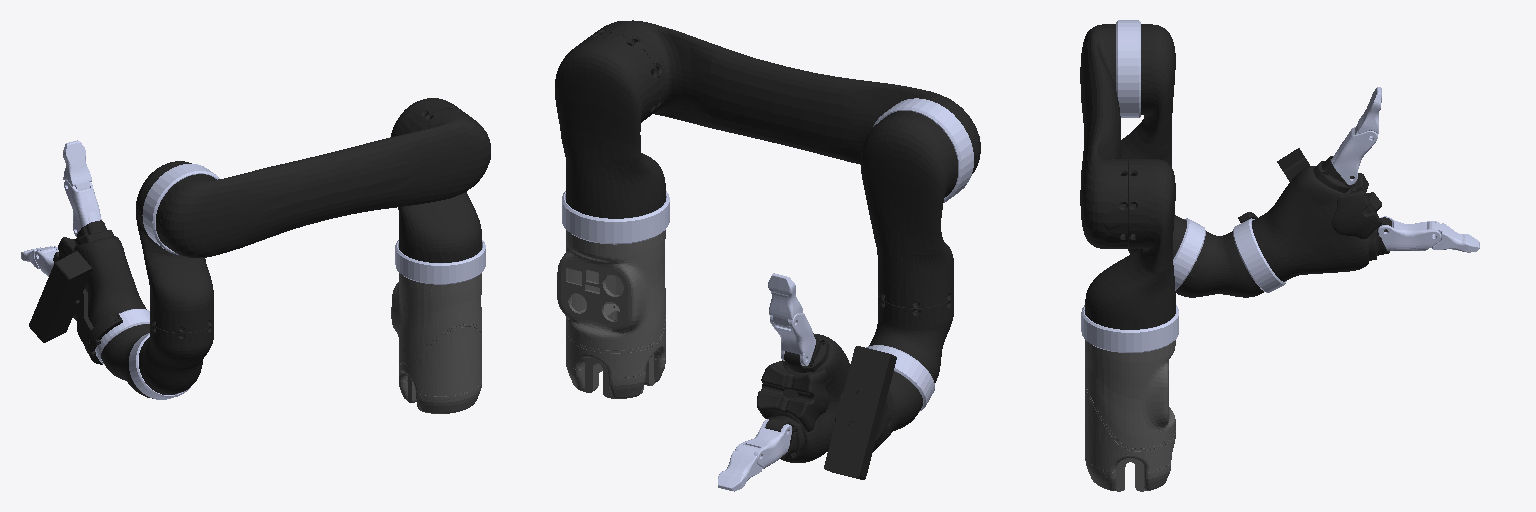
robot.urdf — ADA:
<robot
  name="ADA">
  <link
    name="base_link">
    <inertial>
      <origin
        xyz="0 -0.0018698 0.00076788"
        rpy="0 0 0" />
      <mass
        value="0.64" />
      <inertia
        ixx="0.00059853"
        ixy="0"
        ixz="0"
        iyy="0.00058911"
        iyz="0"
        izz="0.00031086" />
    </inertial>
    <visual>
      <origin
        xyz="0 0 0"
        rpy="0 0 0" />
      <geometry>
        <mesh
          filename="package://ada_description/meshes/base_link.STL" />
      </geometry>
      <material
        name="">
        <color
          rgba="0.4 0.4 0.4 1" />
      </material>
    </visual>
    <collision>
      <origin
        xyz="0 0 0"
        rpy="0 0 0" />
      <geometry>
        <mesh
          filename="package://ada_description/meshes/base_link.STL" />
      </geometry>
    </collision>
  </link>
  <link
    name="Shoulder_Link">
    <inertial>
      <origin
        xyz="0 0.015563 0.072664"
        rpy="0 0 0" />
      <mass
        value="0.15215" />
      <inertia
        ixx="0.00035346"
        ixy="0"
        ixz="0"
        iyy="0.00038125"
        iyz="0"
        izz="0.00016029" />
    </inertial>
    <visual>
      <origin
        xyz="0 0 0"
        rpy="0 0 0" />
      <geometry>
        <mesh
          filename="package://ada_description/meshes/Shoulder_Link.STL" />
      </geometry>
      <material
        name="">
        <color
          rgba="0.2 0.2 0.2 1" />
      </material>
    </visual>
    <collision>
      <origin
        xyz="0 0 0"
        rpy="0 0 0" />
      <geometry>
        <mesh
          filename="package://ada_description/meshes/Shoulder_Link.STL" />
      </geometry>
    </collision>
  </link>
  <joint
    name="j1"
    type="continuous">
    <origin
      xyz="0 0 0.09875"
      rpy="0 0 0" />
    <parent
      link="base_link" />
    <child
      link="Shoulder_Link" />
    <axis
      xyz="0 0 -1" />
    <!--
    <limit
      lower="-3.14"
      upper="3.14"
      effort="0"
      velocity="0.94" />
    -->
    <limit
      effort="18"
      velocity="0.94" />
  </joint>
  <transmission name="Shoulder_Joint_Transmission">
    <type>transmission_interface/SimpleTransmission</type>
    <joint name="j1"/>
    <actuator name="Shoulder_Motor">
      <hardwareInterface>EffortJointInterface</hardwareInterface>
      <mechanicalReduction>136</mechanicalReduction>
    </actuator>
  </transmission>
  <link
    name="Arm_Link">
    <inertial>
      <origin
        xyz="-0.14503 0 -0.02688"
        rpy="0 0 0" />
      <mass
        value="0.2936" />
      <inertia
        ixx="0.00020244"
        ixy="0"
        ixz="0"
        iyy="0.0033623"
        iyz="0"
        izz="0.0034884" />
    </inertial>
    <visual>
      <origin
        xyz="0 0 0"
        rpy="0 0 0" />
      <geometry>
        <mesh
          filename="package://ada_description/meshes/Arm_Link.STL" />
      </geometry>
      <material
        name="">
        <color
          rgba="0.2 0.2 0.2 1" />
      </material>
    </visual>
    <collision>
      <origin
        xyz="0 0 0"
        rpy="0 0 0" />
      <geometry>
        <mesh
          filename="package://ada_description/meshes/Arm_Link.STL" />
      </geometry>
    </collision>
  </link>
  <joint
    name="j2"
    type="revolute">
    <origin
      xyz="0 -0.00175 0.11875"
      rpy="1.5708 0 3.1416" />
    <parent
      link="Shoulder_Link" />
    <child
      link="Arm_Link" />
    <axis
      xyz="0 0 1" />
    <!--
    <limit
      lower="-3.92"
      upper="0.78"
      effort="0"
      velocity="0.94" />
    -->
    <limit
      lower="0.785"
      upper="5.4981853"
      effort="18"
      velocity="0.94" />
  </joint>
  <transmission name="Arm_Joint_Transmission">
    <type>transmission_interface/SimpleTransmission</type>
    <joint name="j2"/>
    <actuator name="Arm_Motor">
      <hardwareInterface>EffortJointInterface</hardwareInterface>
      <mechanicalReduction>136</mechanicalReduction>
    </actuator>
  </transmission>
  <link
    name="Forearm_Link">
    <inertial>
      <origin
        xyz="0 -0.04006 -0.021871"
        rpy="0 0 0" />
      <mass
        value="0.12259" />
      <inertia
        ixx="0.00024901"
        ixy="0"
        ixz="0"
        iyy="0"
        iyz="0"
        izz="0.00028426" />
    </inertial>
    <visual>
      <origin
        xyz="0 0 0"
        rpy="0 0 0" />
      <geometry>
        <mesh
          filename="package://ada_description/meshes/Forearm_Link.STL" />
      </geometry>
      <material
        name="">
        <color
          rgba="0.2 0.2 0.2 1" />
      </material>
    </visual>
    <collision>
      <origin
        xyz="0 0 0"
        rpy="0 0 0" />
      <geometry>
        <mesh
          filename="package://ada_description/meshes/Forearm_Link.STL" />
      </geometry>
    </collision>
  </link>
  <joint
    name="j3"
    type="revolute">
    <origin
      xyz="-0.29 0 0"
      rpy="3.1416 0 -3.1416" />
    <parent
      link="Arm_Link" />
    <child
      link="Forearm_Link" />
    <axis
      xyz="0 0 1" />
    <!--  
    <limit
      lower="-0.87"
      upper="4.01"
      effort="0"
      velocity="0.94" />
    -->
    <limit
      lower="0.65"
      upper="5.6331853"
      effort="18"
      velocity="0.94" />
  </joint>
  <transmission name="Forearm_Joint_Transmission">
    <type>transmission_interface/SimpleTransmission</type>
    <joint name="j3"/>
    <actuator name="Forearm_Motor">
      <hardwareInterface>EffortJointInterface</hardwareInterface>
      <mechanicalReduction>136</mechanicalReduction>
    </actuator>
  </transmission>
  <link
    name="Wrist_1_Link">
    <inertial>
      <origin
        xyz="0 -0.0082688 -0.038029"
        rpy="0 0 0" />
      <mass
        value="0.03694" />
      <inertia
        ixx="0"
        ixy="0"
        ixz="0"
        iyy="0"
        iyz="0"
        izz="0" />
    </inertial>
    <visual>
      <origin
        xyz="0 0 0"
        rpy="0 0 0" />
      <geometry>
        <mesh
          filename="package://ada_description/meshes/Wrist_1_Link.STL" />
      </geometry>
      <material
        name="">
        <color
          rgba="0.2 0.2 0.2 1" />
      </material>
    </visual>
    <collision>
      <origin
        xyz="0 0 0"
        rpy="0 0 0" />
      <geometry>
        <mesh
          filename="package://ada_description/meshes/Wrist_1_Link.STL" />
      </geometry>
    </collision>
  </link>
  <joint
    name="j4"
    type="continuous">
    <origin
      xyz="0 -0.12325 -0.00875"
      rpy="1.5708 0 -3.1416" />
    <parent
      link="Forearm_Link" />
    <child
      link="Wrist_1_Link" />
    <axis
      xyz="0 0 1" />
    <!--
    <limit
      lower="-3.14"
      upper="3.14"
      effort="8"
      velocity="2.0" />
    -->
    <limit
      effort="0"
      velocity="2.0" />
  </joint>
  <transmission name="Wrist_1_Joint_Transmission">
    <type>transmission_interface/SimpleTransmission</type>
    <joint name="j4"/>
    <actuator name="Wrist_1_Motor">
      <hardwareInterface>EffortJointInterface</hardwareInterface>
      <mechanicalReduction>110</mechanicalReduction>
    </actuator>
  </transmission>
  <link
    name="Wrist_2_Link">
    <inertial>
      <origin
        xyz="0 0.0082685 -0.038029"
        rpy="0 0 0" />
      <mass
        value="0.036939" />
      <inertia
        ixx="0"
        ixy="0"
        ixz="0"
        iyy="0"
        iyz="0"
        izz="0" />
    </inertial>
    <visual>
      <origin
        xyz="0 0 0"
        rpy="0 0 0" />
      <geometry>
        <mesh
          filename="package://ada_description/meshes/Wrist_2_Link.STL" />
      </geometry>
      <material
        name="">
        <color
          rgba="0.2 0.2 0.2 1" />
      </material>
    </visual>
    <collision>
      <origin
        xyz="0 0 0"
        rpy="0 0 0" />
      <geometry>
        <mesh
          filename="package://ada_description/meshes/Wrist_2_Link.STL" />
      </geometry>
    </collision>
  </link>
  <joint
    name="j5"
    type="continuous">
    <origin
      xyz="0 -0.037029 -0.064136"
      rpy="1.0472 0 3.1416" />
    <parent
      link="Wrist_1_Link" />
    <child
      link="Wrist_2_Link" />
    <axis
      xyz="0 0 1" />
    <!--
    <limit
      lower="-3.14"
      upper="3.14"
      effort="0"
      velocity="2.0" />
    -->
    <limit
      effort="8"
      velocity="2.0" />
  </joint>
  <transmission name="Wrist_2_Joint_Transmission">
    <type>transmission_interface/SimpleTransmission</type>
    <joint name="j5"/>
    <actuator name="Wrist_2_Motor">
      <hardwareInterface>EffortJointInterface</hardwareInterface>
      <mechanicalReduction>110</mechanicalReduction>
    </actuator>
  </transmission>
  <link
    name="Hand_Link">
    <inertial>
      <origin
        xyz="0.0015134 0 -0.074456"
        rpy="0 0 0" />
      <mass
        value="0.4" />
      <inertia
        ixx="0.00020901"
        ixy="0"
        ixz="0"
        iyy="0.00015498"
        iyz="0"
        izz="0.00012507" />
    </inertial>
    <visual>
      <origin
        xyz="0 0 0"
        rpy="0 0 0" />
      <geometry>
        <mesh
          filename="package://ada_description/meshes/Hand_Link_camera.STL" />
      </geometry>
      <material
        name="">
        <color
          rgba="0.2 0.2 0.2 1" />
      </material>
    </visual>
    <collision>
      <origin
        xyz="0 0 0"
        rpy="0 0 0" />
      <geometry>
        <mesh
          filename="package://ada_description/meshes/Hand_Link_camera.STL" />
      </geometry>
    </collision>
  </link>
  <joint
    name="j6"
    type="continuous">
    <origin
      xyz="0 0.037029 -0.064136"
      rpy="1.0472 0 0" />
    <parent
      link="Wrist_2_Link" />
    <child
      link="Hand_Link" />
    <axis
      xyz="0 0 1" />
    <!--
    <limit
      lower="-3.14"
      upper="3.14"
      effort="0"
      velocity="2.0" />
    -->
    <limit
      effort="8"
      velocity="2.0" />
  </joint>
  <transmission name="Hand_Joint_Transmission">
    <type>transmission_interface/SimpleTransmission</type>
    <joint name="j6"/>
    <actuator name="Hand_Motor">
      <hardwareInterface>EffortJointInterface</hardwareInterface>
      <mechanicalReduction>110</mechanicalReduction>
    </actuator>
  </transmission>
  <link
    name="Finger_1_Proximal_Link">
    <inertial>
      <origin
        xyz="-0.00894704183784709 -0.0181466381953971 0"
        rpy="0 0 0" />
      <mass
        value="0.0106365590225629" />
      <inertia
        ixx="0"
        ixy="0"
        ixz="0"
        iyy="0"
        iyz="0"
        izz="0" />
    </inertial>
    <visual>
      <origin
        xyz="0 0 0"
        rpy="0 0 0" />
      <geometry>
        <mesh
          filename="package://ada_description/meshes/Finger_1_Proximal_Link.STL" />
      </geometry>
      <material
        name="">
        <color
          rgba="0.792156862745098 0.819607843137255 0.933333333333333 1" />
      </material>
    </visual>
    <collision>
      <origin
        xyz="0 0 0"
        rpy="0 0 0" />
      <geometry>
        <mesh
          filename="package://ada_description/meshes/Finger_1_Proximal_Link.STL" />
      </geometry>
    </collision>
  </link>
  <joint
    name="f1"
    type="revolute">
    <origin
      xyz="0.0024957 -0.030948 -0.11482"
      rpy="1.5708 0.56392 1.5708" />
    <parent
      link="Hand_Link" />
    <child
      link="Finger_1_Proximal_Link" />
    <axis
      xyz="0 0 1" />
    <limit
      lower="0"
      upper="1.20"
      effort="1.2"
      velocity="0.785398163" />
  </joint>
  <transmission name="Finger_1_Proximal_Joint_Transmission">
    <type>transmission_interface/SimpleTransmission</type>
    <joint name="f1"/>
    <actuator name="Finger_1_Proximal_Motor">
      <hardwareInterface>EffortJointInterface</hardwareInterface>
      <mechanicalReduction>1</mechanicalReduction>
    </actuator>
  </transmission>
  <link
    name="Finger_1_Distal_Link">
    <inertial>
      <origin
        xyz="-0.0047690584177113 -0.0133399601477665 0"
        rpy="0 0 0" />
      <mass
        value="0.0121939815401302" />
      <inertia
        ixx="0"
        ixy="0"
        ixz="0"
        iyy="0"
        iyz="0"
        izz="0" />
    </inertial>
    <visual>
      <origin
        xyz="0 0 0"
        rpy="0 0 0" />
      <geometry>
        <mesh
          filename="package://ada_description/meshes/Finger_1_Distal_Link.STL" />
      </geometry>
      <material
        name="">
        <color
          rgba="0.792156862745098 0.819607843137255 0.933333333333333 1" />
      </material>
    </visual>
    <collision>
      <origin
        xyz="0 0 0"
        rpy="0 0 0" />
      <geometry>
        <mesh
          filename="package://ada_description/meshes/Finger_1_Distal_Link.STL" />
      </geometry>
    </collision>
  </link>
  <joint
    name="Finger_1_Distal_Joint"
    type="revolute">
    <origin
      xyz="-0.003 -0.044 0"
      rpy="0 0 -0.19199" />
    <parent
      link="Finger_1_Proximal_Link" />
    <child
      link="Finger_1_Distal_Link" />
    <axis
      xyz="0 0 1" />
    <limit
      lower="0"
      upper="1.05"
      effort="1.2"
      velocity="0.785398163" />
    <mimic 
      joint="Finger_1_Proximal_Joint"
      multiplier="0.5" />
  </joint>
  <transmission name="Finger_1_Distal_Joint_Transmission">
    <type>transmission_interface/SimpleTransmission</type>
    <joint name="Finger_1_Distal_Joint"/>
    <actuator name="Finger_1_Distal_Motor">
      <hardwareInterface>EffortJointInterface</hardwareInterface>
      <mechanicalReduction>1</mechanicalReduction>
    </actuator>
  </transmission>
  <link
    name="Finger_2_Proximal_Link">
    <inertial>
      <origin
        xyz="-0.00894697932265109 -0.018146678045967 0"
        rpy="0 0 0" />
      <mass
        value="0.0106364391584646" />
      <inertia
        ixx="0"
        ixy="0"
        ixz="0"
        iyy="0"
        iyz="0"
        izz="0" />
    </inertial>
    <visual>
      <origin
        xyz="0 0 0"
        rpy="0 0 0" />
      <geometry>
        <mesh
          filename="package://ada_description/meshes/Finger_2_Proximal_Link.STL" />
      </geometry>
      <material
        name="">
        <color
          rgba="0.792156862745098 0.819607843137255 0.933333333333333 1" />
      </material>
    </visual>
    <collision>
      <origin
        xyz="0 0 0"
        rpy="0 0 0" />
      <geometry>
        <mesh
          filename="package://ada_description/meshes/Finger_2_Proximal_Link.STL" />
      </geometry>
    </collision>
  </link>
  <joint
    name="f2"
    type="revolute">
    <origin
      xyz="0.0024957 0.030948 -0.11482"
      rpy="1.5708 0.56392 -1.5708" />
    <parent
      link="Hand_Link" />
    <child
      link="Finger_2_Proximal_Link" />
    <axis
      xyz="0 0 1" />
    <limit
      lower="0"
      upper="1.20"
      effort="1.2"
      velocity="0.785398163" />
  </joint>
  <transmission name="Finger_2_Proximal_Joint_Transmission">
    <type>transmission_interface/SimpleTransmission</type>
    <joint name="f2"/>
    <actuator name="Finger_2_Proximal_Motor">
      <hardwareInterface>EffortJointInterface</hardwareInterface>
      <mechanicalReduction>1</mechanicalReduction>
    </actuator>
  </transmission>
  <link
    name="Finger_2_Distal_Link">
    <inertial>
      <origin
        xyz="-0.00476909654850879 -0.0133398607161451 0"
        rpy="0 0 0" />
      <mass
        value="0.0121939010456702" />
      <inertia
        ixx="0"
        ixy="0"
        ixz="0"
        iyy="0"
        iyz="0"
        izz="0" />
    </inertial>
    <visual>
      <origin
        xyz="0 0 0"
        rpy="0 0 0" />
      <geometry>
        <mesh
          filename="package://ada_description/meshes/Finger_2_Distal_Link.STL" />
      </geometry>
      <material
        name="">
        <color
          rgba="0.792156862745098 0.819607843137255 0.933333333333333 1" />
      </material>
    </visual>
    <collision>
      <origin
        xyz="0 0 0"
        rpy="0 0 0" />
      <geometry>
        <mesh
          filename="package://ada_description/meshes/Finger_2_Distal_Link.STL" />
      </geometry>
    </collision>
  </link>
  <joint
    name="Finger_2_Distal_Joint"
    type="revolute">
    <origin
      xyz="-0.003 -0.044 0"
      rpy="0 0 -0.19199" />
    <parent
      link="Finger_2_Proximal_Link" />
    <child
      link="Finger_2_Distal_Link" />
    <axis
      xyz="0 0 1" />
    <limit
      lower="0"
      upper="1.05"
      effort="1.2"
      velocity="0.785398163" />
    <mimic 
      joint="Finger_1_Proximal_Joint"
      multiplier="0.5" />
  </joint>
  <transmission name="Finger_2_Distal_Joint_Transmission">
    <type>transmission_interface/SimpleTransmission</type>
    <joint name="Finger_2_Distal_Joint"/>
    <actuator name="Finger_2_Distal_Motor">
      <hardwareInterface>EffortJointInterface</hardwareInterface>
      <mechanicalReduction>1</mechanicalReduction>
    </actuator>
  </transmission>
  <link
    name="Hand_Ring_Link">
    <inertial>
      <origin
        xyz="0 0 0"
        rpy="0 0 0" />
      <mass
        value="0.4" />
      <inertia
        ixx="0"
        ixy="0"
        ixz="0"
        iyy="0"
        iyz="0"
        izz="0" />
    </inertial>
    <visual>
      <origin
        xyz="0 0 0"
        rpy="0 0 0" />
      <geometry>
        <mesh
          filename="package://ada_description/meshes/Hand_Ring_Link.STL" />
      </geometry>
      <material
        name="">
        <color
          rgba="0.79216 0.81961 0.93333 1" />
      </material>
    </visual>
    <collision>
      <origin
        xyz="0 0 0"
        rpy="0 0 0" />
      <geometry>
        <mesh
          filename="package://ada_description/meshes/Hand_Ring_Link.STL" />
      </geometry>
    </collision>
  </link>
  <joint
    name="Hand_Ring_Joint"
    type="fixed">
    <origin
      xyz="0 0 0"
      rpy="0 0 0" />
    <parent
      link="Hand_Link" />
    <child
      link="Hand_Ring_Link" />
    <axis
      xyz="0 0 0" />
  </joint>
  <link
    name="Wrist_2_Ring_Link">
    <inertial>
      <origin
        xyz="0 0 0"
        rpy="0 0 0" />
      <mass
        value="0.4" />
      <inertia
        ixx="0"
        ixy="0"
        ixz="0"
        iyy="0"
        iyz="0"
        izz="0" />
    </inertial>
    <visual>
      <origin
        xyz="0 0 0"
        rpy="0 0 0" />
      <geometry>
        <mesh
          filename="package://ada_description/meshes/Wrist_2_Ring_Link.STL" />
      </geometry>
      <material
        name="">
        <color
          rgba="0.79216 0.81961 0.93333 1" />
      </material>
    </visual>
    <collision>
      <origin
        xyz="0 0 0"
        rpy="0 0 0" />
      <geometry>
        <mesh
          filename="package://ada_description/meshes/Wrist_2_Ring_Link.STL" />
      </geometry>
    </collision>
  </link>
  <joint
    name="Wrist_2_Ring_Joint"
    type="fixed">
    <origin
      xyz="0 0 0"
      rpy="0 0 0" />
    <parent
      link="Wrist_2_Link" />
    <child
      link="Wrist_2_Ring_Link" />
    <axis
      xyz="0 0 0" />
  </joint>
  <link
    name="Wrist_1_Ring_Link">
    <inertial>
      <origin
        xyz="0 0 0"
        rpy="0 0 0" />
      <mass
        value="0.4" />
      <inertia
        ixx="0"
        ixy="0"
        ixz="0"
        iyy="0"
        iyz="0"
        izz="0" />
    </inertial>
    <visual>
      <origin
        xyz="0 0 0"
        rpy="0 0 0" />
      <geometry>
        <mesh
          filename="package://ada_description/meshes/Wrist_1_Ring_Link.STL" />
      </geometry>
      <material
        name="">
        <color
          rgba="0.79216 0.81961 0.93333 1" />
      </material>
    </visual>
    <collision>
      <origin
        xyz="0 0 0"
        rpy="0 0 0" />
      <geometry>
        <mesh
          filename="package://ada_description/meshes/Wrist_1_Ring_Link.STL" />
      </geometry>
    </collision>
  </link>
  <joint
    name="Wrist_1_Ring_Joint"
    type="fixed">
    <origin
      xyz="0 0 0"
      rpy="0 0 0" />
    <parent
      link="Wrist_1_Link" />
    <child
      link="Wrist_1_Ring_Link" />
    <axis
      xyz="0 0 0" />
  </joint>
  <link
    name="Forearm_Ring_Link">
    <inertial>
      <origin
        xyz="0 0 0"
        rpy="0 0 0" />
      <mass
        value="0.76" />
      <inertia
        ixx="0"
        ixy="0"
        ixz="0"
        iyy="0"
        iyz="0"
        izz="0" />
    </inertial>
    <visual>
      <origin
        xyz="0 0 0"
        rpy="0 0 0" />
      <geometry>
        <mesh
          filename="package://ada_description/meshes/Forearm_Ring_Link.STL" />
      </geometry>
      <material
        name="">
        <color
          rgba="0.79216 0.81961 0.93333 1" />
      </material>
    </visual>
    <collision>
      <origin
        xyz="0 0 0"
        rpy="0 0 0" />
      <geometry>
        <mesh
          filename="package://ada_description/meshes/Forearm_Ring_Link.STL" />
      </geometry>
    </collision>
  </link>
  <joint
    name="Forearm_Ring_Joint"
    type="fixed">
    <origin
      xyz="0 0 0"
      rpy="0 0 0" />
    <parent
      link="Forearm_Link" />
    <child
      link="Forearm_Ring_Link" />
    <axis
      xyz="0 0 0" />
  </joint>
  <link
    name="Arm_Ring_Link">
    <inertial>
      <origin
        xyz="0 0 0"
        rpy="0 0 0" />
      <mass
        value="0.76" />
      <inertia
        ixx="0"
        ixy="0"
        ixz="0"
        iyy="0"
        iyz="0"
        izz="0" />
    </inertial>
    <visual>
      <origin
        xyz="0 0 0"
        rpy="0 0 0" />
      <geometry>
        <mesh
          filename="package://ada_description/meshes/Arm_Ring_Link.STL" />
      </geometry>
      <material
        name="">
        <color
          rgba="0.79216 0.81961 0.93333 1" />
      </material>
    </visual>
    <collision>
      <origin
        xyz="0 0 0"
        rpy="0 0 0" />
      <geometry>
        <mesh
          filename="package://ada_description/meshes/Arm_Ring_Link.STL" />
      </geometry>
    </collision>
  </link>
  <joint
    name="Arm_Ring_Joint"
    type="fixed">
    <origin
      xyz="0 0 0"
      rpy="0 0 0" />
    <parent
      link="Arm_Link" />
    <child
      link="Arm_Ring_Link" />
    <axis
      xyz="0 0 0" />
  </joint>
  <link
    name="Shoulder_Ring_Link">
    <inertial>
      <origin
        xyz="0 0 0"
        rpy="0 0 0" />
      <mass
        value="0.76" />
      <inertia
        ixx="0"
        ixy="0"
        ixz="0"
        iyy="0"
        iyz="0"
        izz="0" />
    </inertial>
    <visual>
      <origin
        xyz="0 0 0"
        rpy="0 0 0" />
      <geometry>
        <mesh
          filename="package://ada_description/meshes/Shoulder_Ring_Link.STL" />
      </geometry>
      <material
        name="">
        <color
          rgba="0.79216 0.81961 0.93333 1" />
      </material>
    </visual>
    <collision>
      <origin
        xyz="0 0 0"
        rpy="0 0 0" />
      <geometry>
        <mesh
          filename="package://ada_description/meshes/Shoulder_Ring_Link.STL" />
      </geometry>
    </collision>
  </link>
  <joint
    name="Shoulder_Ring_Joint"
    type="fixed">
    <origin
      xyz="0 0 0"
      rpy="0 0 0" />
    <parent
      link="Shoulder_Link" />
    <child
      link="Shoulder_Ring_Link" />
    <axis
      xyz="0 0 0" />
  </joint>
</robot>

--- Render facts (derived) ---
Views: 3 orthographic renders of the robot side by side, from view 1: azimuth 30°, elevation 25°; view 2: azimuth 150°, elevation 25°; view 3: azimuth 270°, elevation 25°.
Robot: ADA — 17 links, 16 joints (6 revolute, 4 continuous, 6 fixed); root link base_link; default pose: all joints at 0 but 2 set to mid-range because 0 is outside their limits (j2 = 3.14, j3 = 3.14).
Visible links, largest first — view 1: Arm_Link, base_link, Hand_Link, Shoulder_Link, Forearm_Link, Wrist_1_Link, Shoulder_Ring_Link, Forearm_Ring_Link, Wrist_2_Link, Finger_2_Proximal_Link, Finger_2_Distal_Link, Hand_Ring_Link (+1 smaller); view 2: Arm_Link, Shoulder_Link, base_link, Forearm_Link, Hand_Link, Wrist_1_Link, Shoulder_Ring_Link, Forearm_Ring_Link, Finger_2_Proximal_Link, Finger_2_Distal_Link, Wrist_2_Link, Finger_1_Proximal_Link (+2 smaller); view 3: Hand_Link, base_link, Shoulder_Link, Arm_Link, Forearm_Link, Wrist_2_Link, Forearm_Ring_Link, Shoulder_Ring_Link, Hand_Ring_Link, Finger_1_Proximal_Link, Finger_2_Proximal_Link, Wrist_2_Ring_Link (+2 smaller).
Link boxes in pixels (x1=…): Arm_Link: x1=156, y1=109, x2=490, y2=257; base_link: x1=391, y1=273, x2=481, y2=413; Hand_Link: x1=29, y1=220, x2=146, y2=364; Shoulder_Link: x1=391, y1=98, x2=481, y2=262; Forearm_Link: x1=136, y1=161, x2=213, y2=332; Wrist_1_Link: x1=139, y1=320, x2=213, y2=394; Shoulder_Ring_Link: x1=395, y1=240, x2=485, y2=284; Forearm_Ring_Link: x1=142, y1=164, x2=219, y2=254; Wrist_2_Link: x1=101, y1=324, x2=152, y2=398; Finger_2_Proximal_Link: x1=64, y1=180, x2=101, y2=236; Finger_2_Distal_Link: x1=63, y1=140, x2=91, y2=191; Hand_Ring_Link: x1=95, y1=309, x2=149, y2=364; Arm_Link: x1=588, y1=20, x2=980, y2=173; Shoulder_Link: x1=555, y1=32, x2=665, y2=218; base_link: x1=557, y1=230, x2=665, y2=398; Forearm_Link: x1=861, y1=111, x2=957, y2=307; Hand_Link: x1=757, y1=333, x2=896, y2=479; Wrist_1_Link: x1=869, y1=294, x2=953, y2=382; Shoulder_Ring_Link: x1=562, y1=191, x2=669, y2=244; Forearm_Ring_Link: x1=873, y1=98, x2=973, y2=202; Finger_2_Proximal_Link: x1=770, y1=313, x2=815, y2=365; Finger_2_Distal_Link: x1=768, y1=273, x2=802, y2=328; Wrist_2_Link: x1=884, y1=371, x2=922, y2=440; Finger_1_Proximal_Link: x1=735, y1=419, x2=791, y2=468; Hand_Link: x1=1238, y1=148, x2=1391, y2=281; base_link: x1=1085, y1=340, x2=1175, y2=491; Shoulder_Link: x1=1085, y1=159, x2=1175, y2=329; Arm_Link: x1=1080, y1=24, x2=1127, y2=248; Forearm_Link: x1=1120, y1=24, x2=1175, y2=205; Wrist_2_Link: x1=1175, y1=231, x2=1263, y2=297; Forearm_Ring_Link: x1=1116, y1=20, x2=1140, y2=117; Shoulder_Ring_Link: x1=1081, y1=305, x2=1178, y2=352; Hand_Ring_Link: x1=1233, y1=218, x2=1286, y2=292; Finger_1_Proximal_Link: x1=1378, y1=216, x2=1440, y2=250; Finger_2_Proximal_Link: x1=1331, y1=127, x2=1377, y2=184; Wrist_2_Ring_Link: x1=1173, y1=218, x2=1205, y2=290.
Size in the robot's own frame: 0.3949 by 0.3641 by 0.3199 metres.
15 mesh visuals loaded from 17 distinct referenced files (15 binary STL); not drawn: 2 (reference not matched to a file when rendering).
